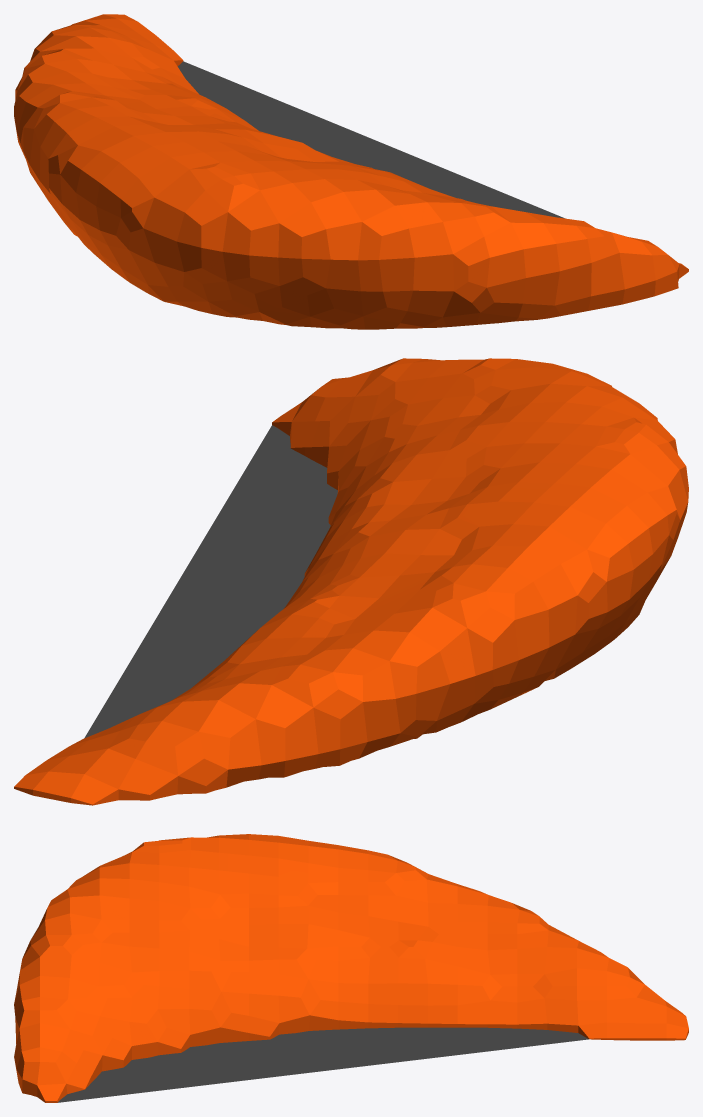
3 renders of one model, top to bottom at view 1: azimuth 30°, elevation 25°; view 2: azimuth 150°, elevation 25°; view 3: azimuth 270°, elevation 25°, orthographic. The views are drawn at different scales.
Visible parts, largest first — view 1: 19.008; view 2: 19.008; view 3: 19.008.
Part boxes in pixels (x1,y1,x2,y2): 19.008: (14,14,688,329); 19.008: (14,358,688,805); 19.008: (14,834,688,1102).
Bounding box in the file's own units: 7.17 × 2.01 × 11.31.
